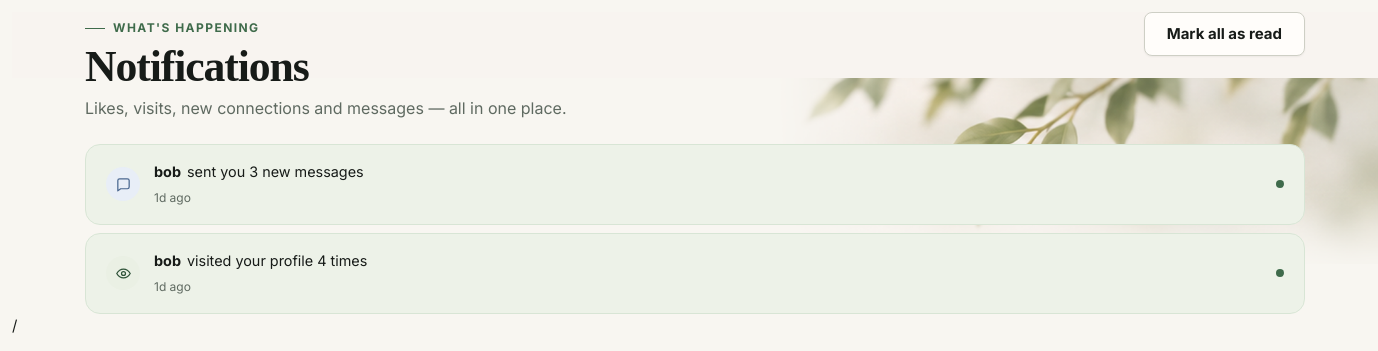
Test: page groups message and visit copy and defers message reads until chat loads
The width and height of the screenshot is (1378, 351).
expect the button "bob visited your profile 4 times 1d ago" is shown: met, box [85, 233, 1305, 314]
Click the button "bob sent you 3 new messages 1d ago" at [123, 184], box [85, 144, 1305, 225]
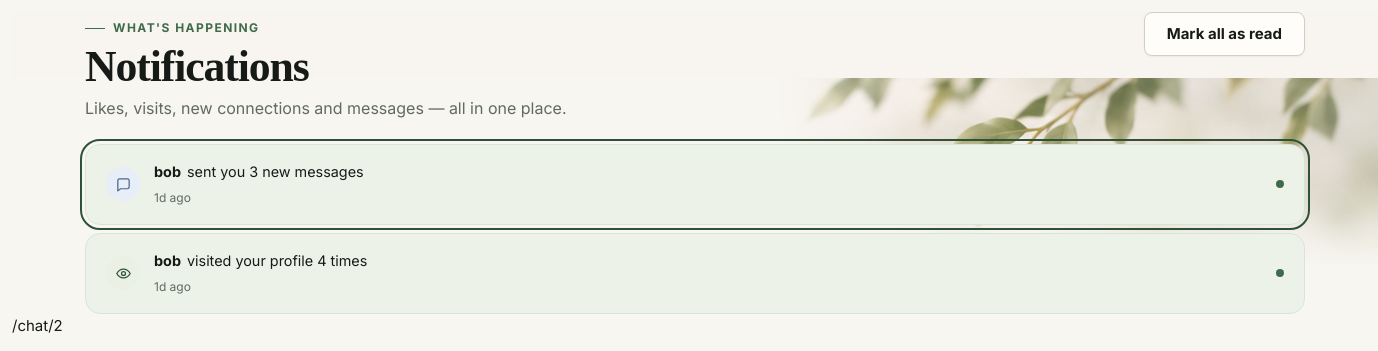
expect the text "/chat/2" is shown: met, box [12, 316, 63, 335]
